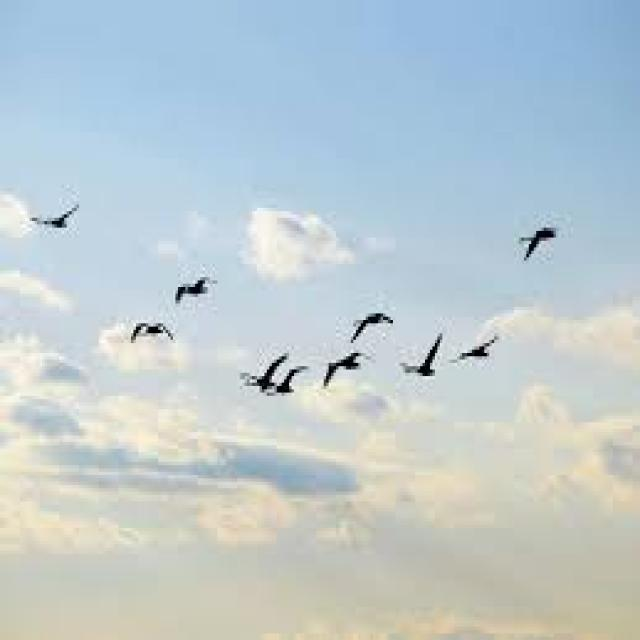bird: (494, 203, 580, 279), (236, 345, 290, 409), (24, 194, 91, 243), (402, 331, 447, 388), (167, 265, 221, 311), (125, 312, 177, 357), (320, 350, 371, 391), (346, 306, 399, 342), (273, 357, 311, 407), (455, 337, 507, 365)
